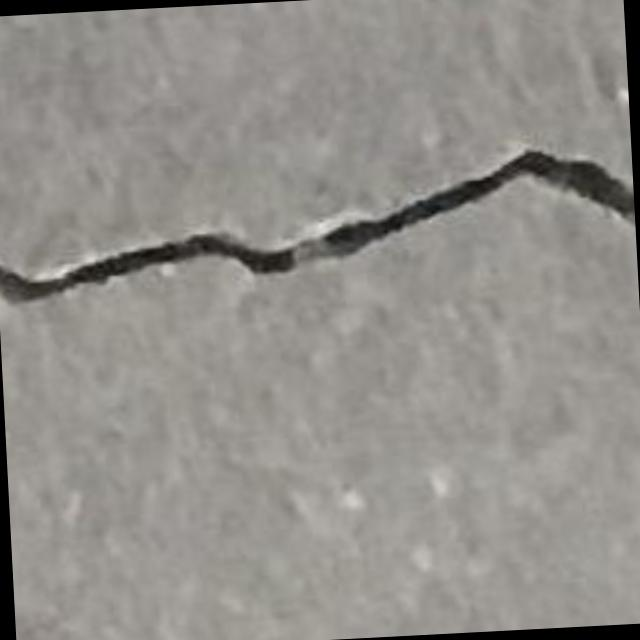crack: (0, 149, 634, 305)
